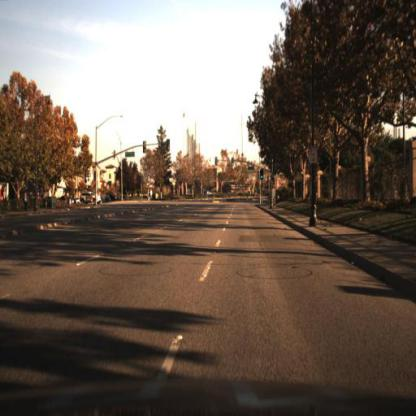car: (79, 192, 104, 208), (80, 192, 101, 206)
pedestrian: (20, 187, 31, 214), (24, 193, 32, 214)
trafficLight-Green: (258, 170, 266, 184), (270, 175, 276, 190), (230, 157, 236, 170)
trafficLight-RedLeft: (214, 158, 220, 171)
